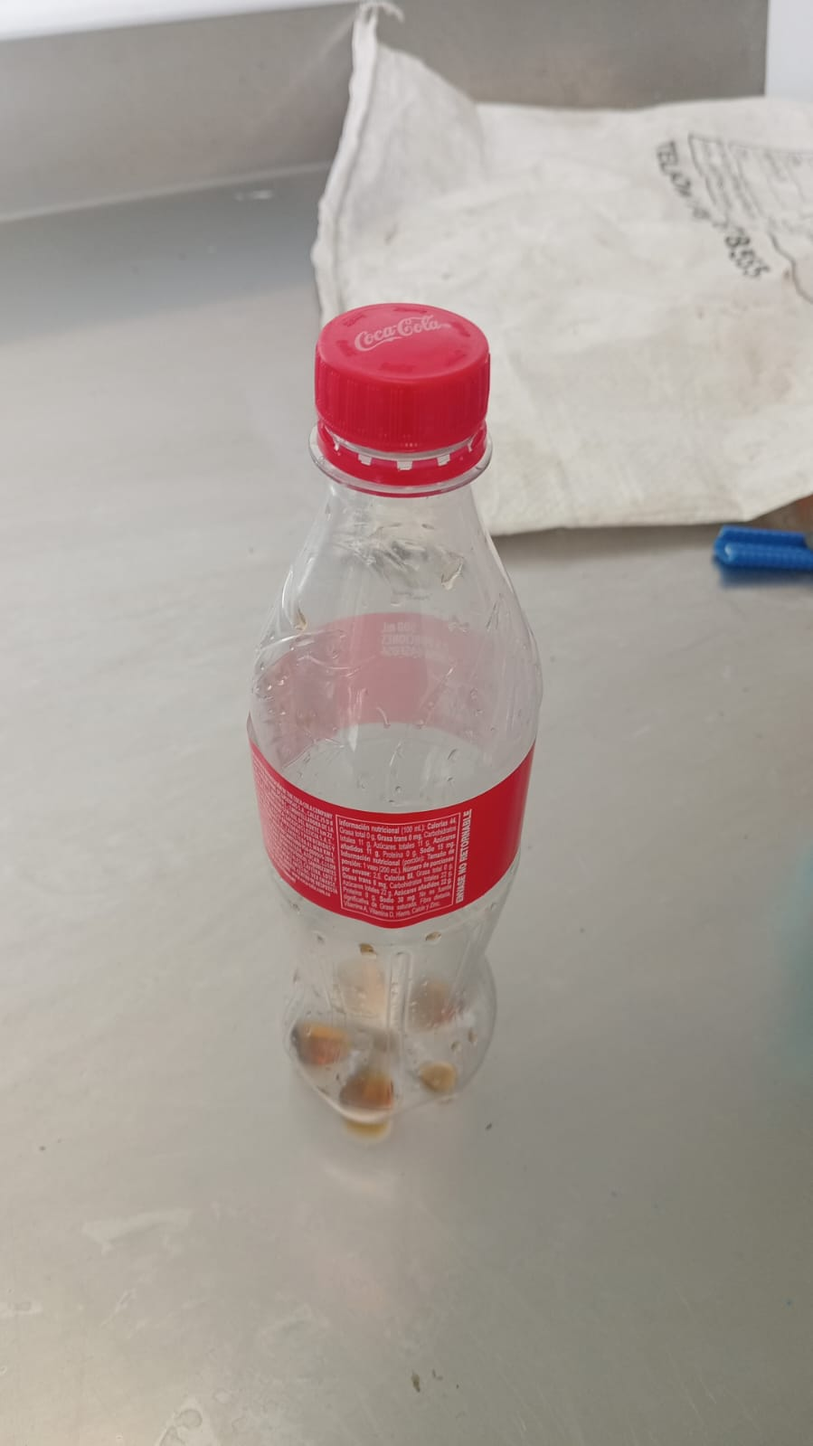Plastico: (250, 303, 549, 1133)
